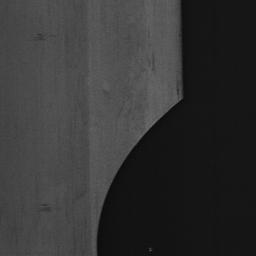Crescent gap: (97, 100, 185, 256)
